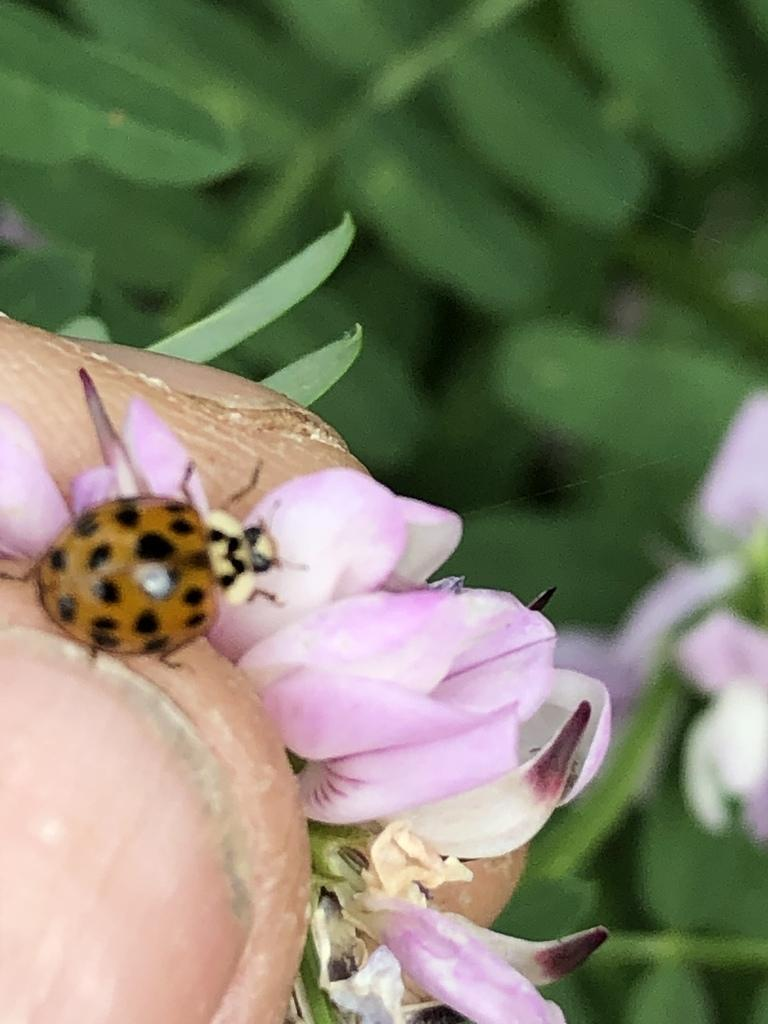ladybug: (1, 454, 309, 676)
